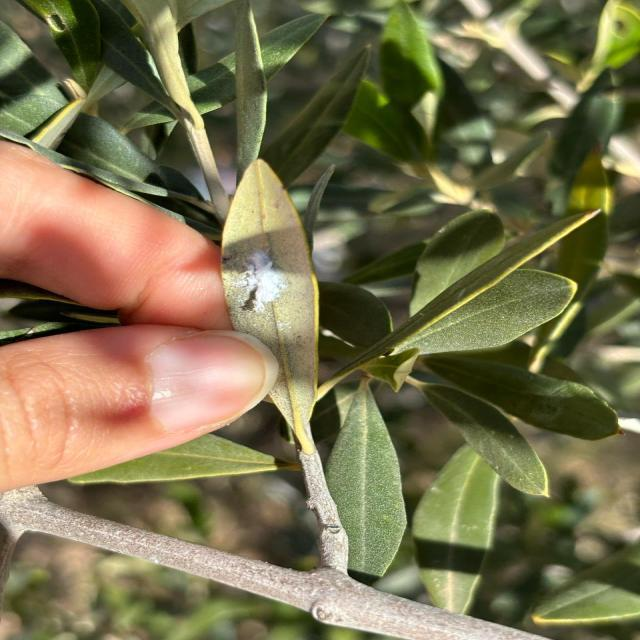Psyllid: (224, 248, 318, 330)
